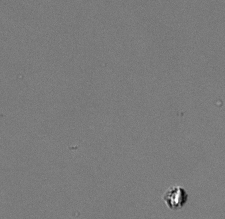Dead Cell: (166, 188, 186, 207)
